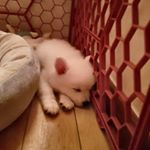puppy: (42, 54, 97, 116)
